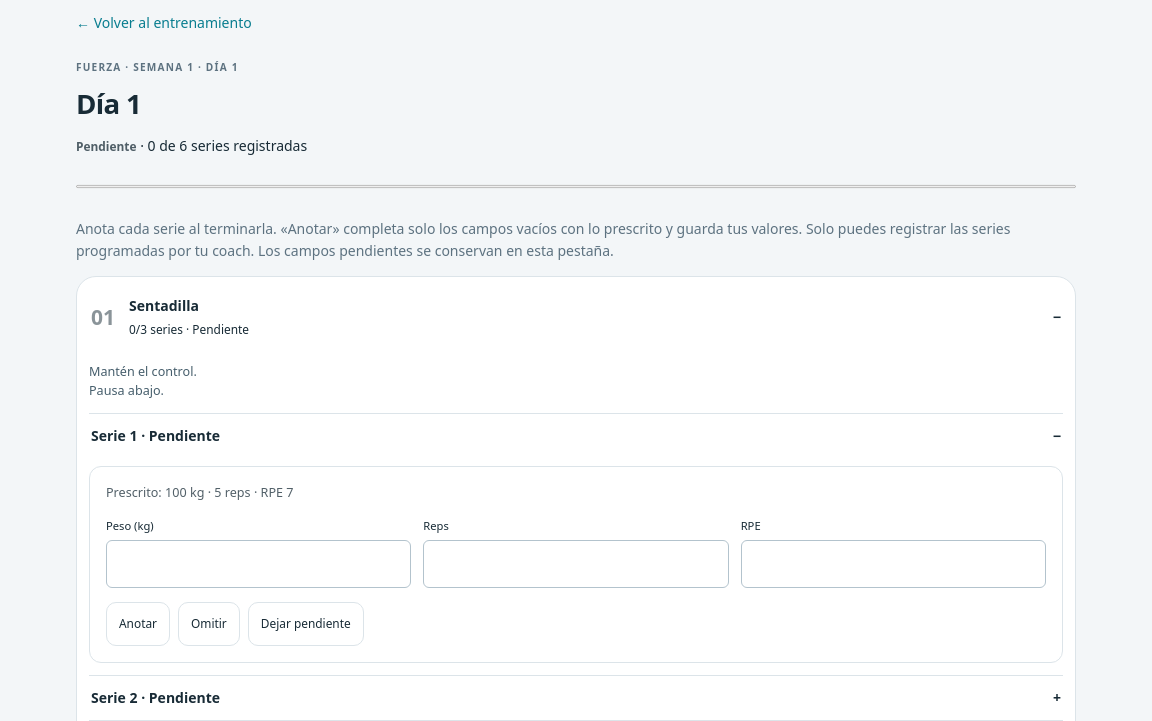
Test case: Ejecución compacta y registro seguro › Anotar conserva valores manuales incluso cero, rellena vacíos, guarda y abre la siguiente pendiente
This screenshot has width=1152, height=721.
Expected: the button "Anotar" is shown, [106,602,170,646]
Type "0" into the number field labelled "Peso (kg)" at (259,564), box [106,540,411,588]
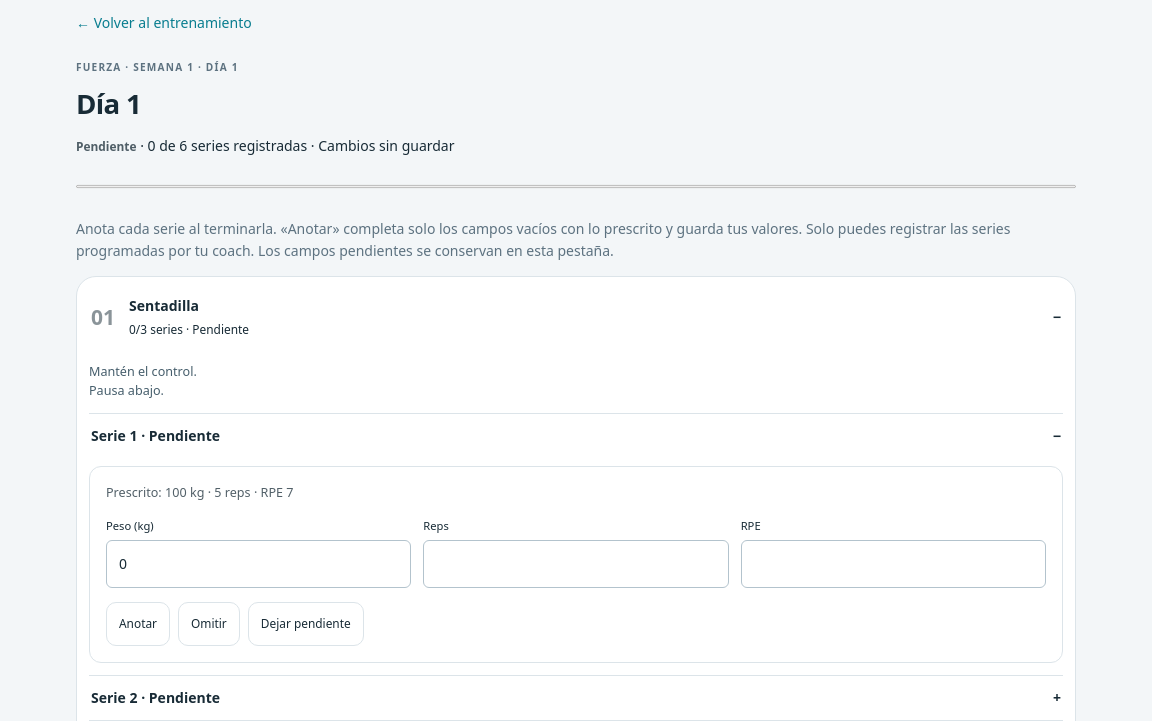
Type "8.5" into the number field labelled "RPE" at (893,564), box [741,540,1046,588]
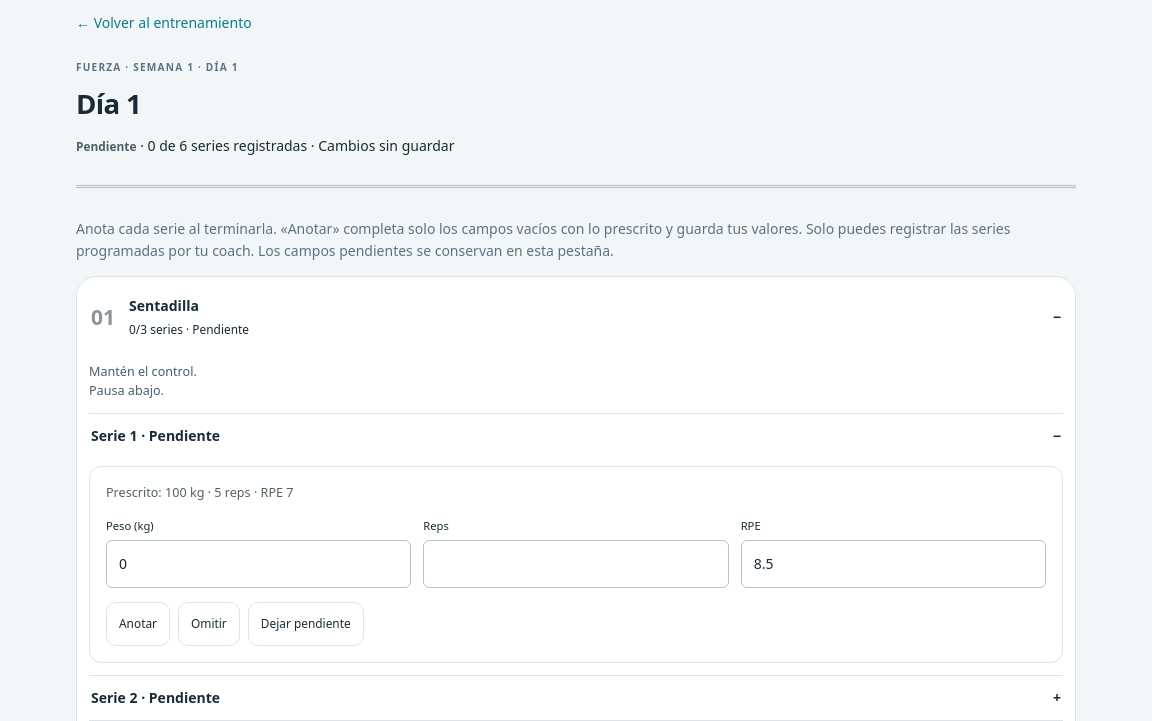
Click the button "Anotar" at (138,624), box [106,602,170,646]
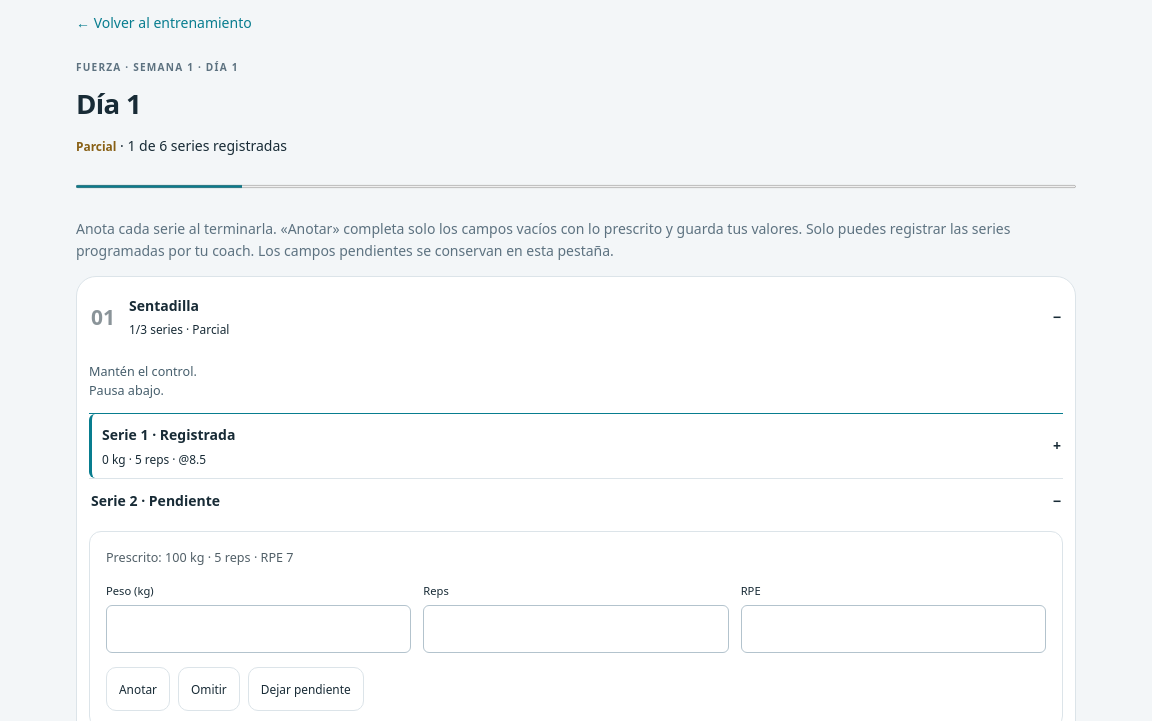
Expected: the button "Serie 1 · Registrada 0 kg · 5 reps · @8.5 +" is collapsed, [89,414,1063,478]
Expected: the button "Serie 2 · Pendiente −" is expanded, [89,479,1063,523]
Expected: the text "0 kg · 5 reps · @8.5" is shown, [102,451,206,467]
